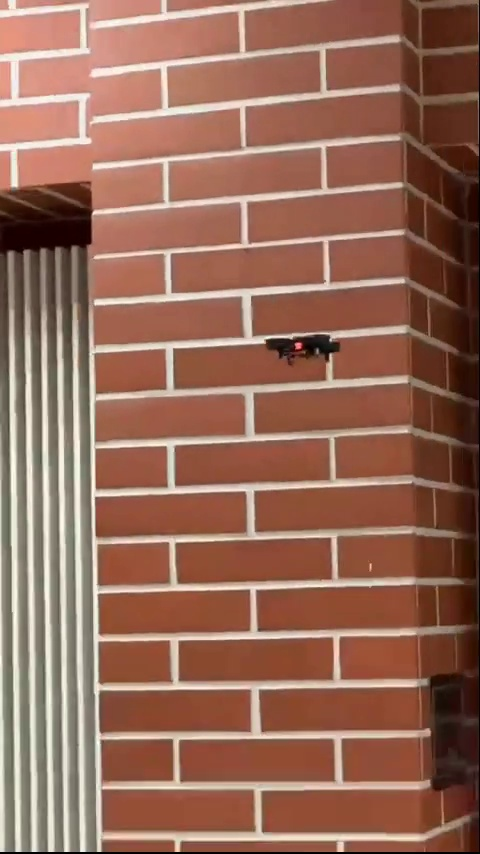drone: (261, 327, 344, 365)
